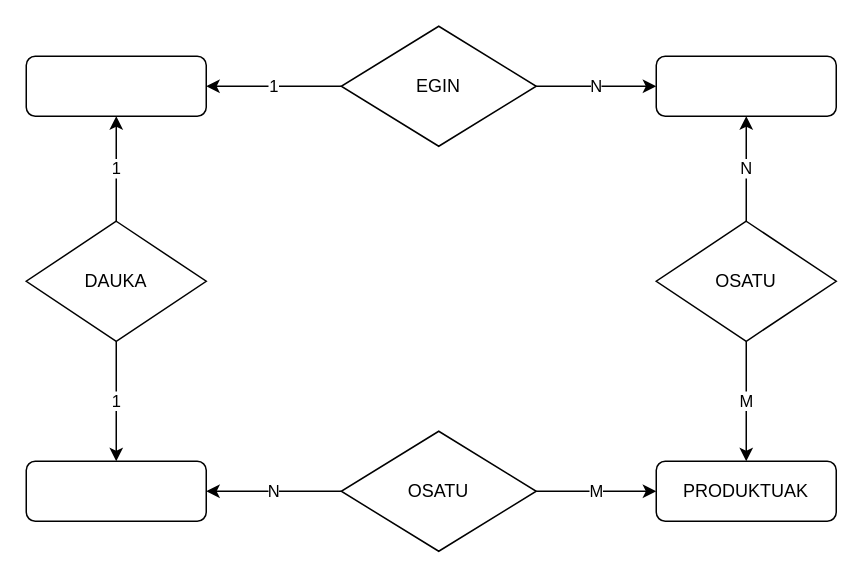
Some shapes in this 863 by 578 pixel diagram are drawn without their labels. The centre of each missing label's shape, as x and y in pixels:
"ERABILTZAILEAK" goes at point (115, 85).
"ESKARIAK" goes at point (745, 85).
"ORGA" goes at point (115, 490).
